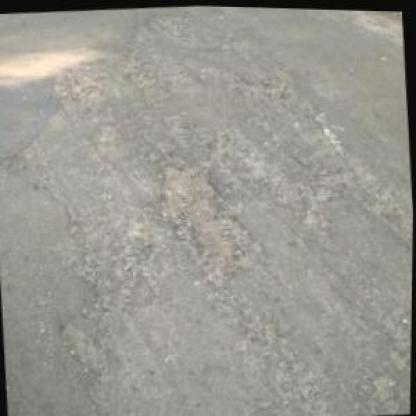pothole: (153, 151, 273, 283)
